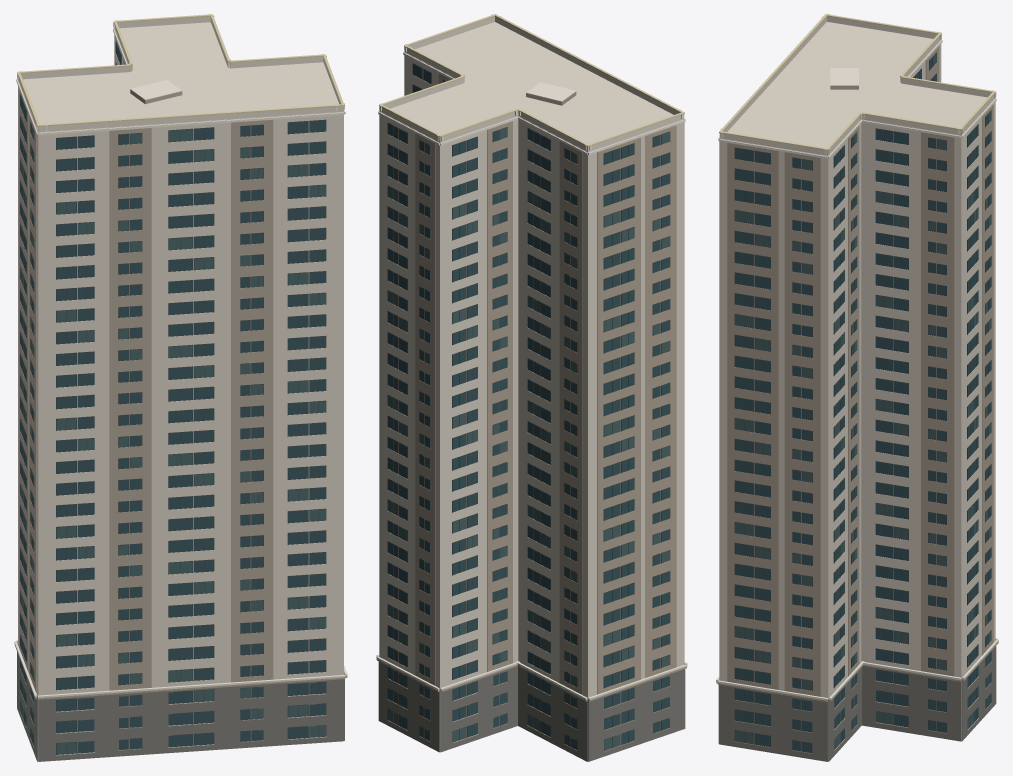
File: bespoke-raemian-prestige-115.glb
3 renders of one model, left to right at view 1: azimuth 30°, elevation 25°; view 2: azimuth 150°, elevation 25°; view 3: azimuth 270°, elevation 25°, orthographic. The views are drawn at different scales.
Visible parts, largest first — view 1: Prestige_warm_ivory_rendered_wall001, Prestige_recessed_blue_green_window001, Prestige_wide_taupe_pilasters001, Prestige_dark_bronze_thin_window_frame001, Prestige_dark_brown_grey_stone_base001, Prestige_muted_green_window_pair001, Prestige_pale_limestone_band001, Prestige_cream_gold_crown_coping001; view 2: Prestige_warm_ivory_rendered_wall001, Prestige_wide_taupe_pilasters001, Prestige_recessed_blue_green_window001, Prestige_dark_bronze_thin_window_frame001, Prestige_dark_brown_grey_stone_base001, Prestige_muted_green_window_pair001, Prestige_pale_limestone_band001, Prestige_cream_gold_crown_coping001; view 3: Prestige_warm_ivory_rendered_wall001, Prestige_wide_taupe_pilasters001, Prestige_recessed_blue_green_window001, Prestige_dark_bronze_thin_window_frame001, Prestige_dark_brown_grey_stone_base001, Prestige_muted_green_window_pair001, Prestige_pale_limestone_band001, Prestige_cream_gold_crown_coping001.
Boxes of the visible parts, bbox=[...] form: Prestige_warm_ivory_rendered_wall001: bbox=[18, 16, 343, 760]; Prestige_recessed_blue_green_window001: bbox=[20, 41, 325, 753]; Prestige_wide_taupe_pilasters001: bbox=[14, 59, 347, 750]; Prestige_dark_bronze_thin_window_frame001: bbox=[20, 41, 326, 754]; Prestige_dark_brown_grey_stone_base001: bbox=[17, 643, 344, 761]; Prestige_muted_green_window_pair001: bbox=[20, 127, 325, 754]; Prestige_pale_limestone_band001: bbox=[14, 23, 347, 697]; Prestige_cream_gold_crown_coping001: bbox=[17, 14, 344, 126]; Prestige_warm_ivory_rendered_wall001: bbox=[379, 17, 684, 761]; Prestige_wide_taupe_pilasters001: bbox=[376, 73, 686, 751]; Prestige_recessed_blue_green_window001: bbox=[388, 64, 669, 749]; Prestige_dark_bronze_thin_window_frame001: bbox=[387, 63, 670, 750]; Prestige_dark_brown_grey_stone_base001: bbox=[378, 661, 685, 761]; Prestige_muted_green_window_pair001: bbox=[388, 127, 669, 750]; Prestige_pale_limestone_band001: bbox=[376, 47, 687, 699]; Prestige_cream_gold_crown_coping001: bbox=[379, 14, 684, 146]; Prestige_warm_ivory_rendered_wall001: bbox=[719, 16, 995, 761]; Prestige_wide_taupe_pilasters001: bbox=[716, 46, 998, 753]; Prestige_recessed_blue_green_window001: bbox=[735, 58, 991, 752]; Prestige_dark_bronze_thin_window_frame001: bbox=[734, 52, 991, 752]; Prestige_dark_brown_grey_stone_base001: bbox=[718, 646, 996, 761]; Prestige_muted_green_window_pair001: bbox=[735, 53, 991, 749]; Prestige_pale_limestone_band001: bbox=[716, 35, 998, 700]; Prestige_cream_gold_crown_coping001: bbox=[719, 14, 996, 150].
Bounding box in the file's own units: 39.74 × 82.1 × 34.39.
